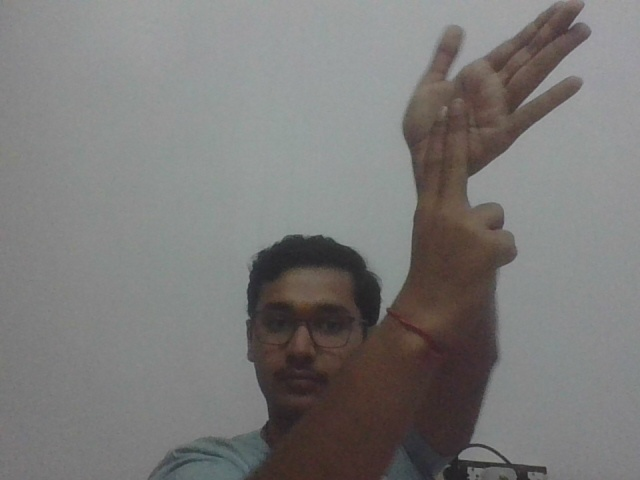N: (403, 1, 594, 242)
